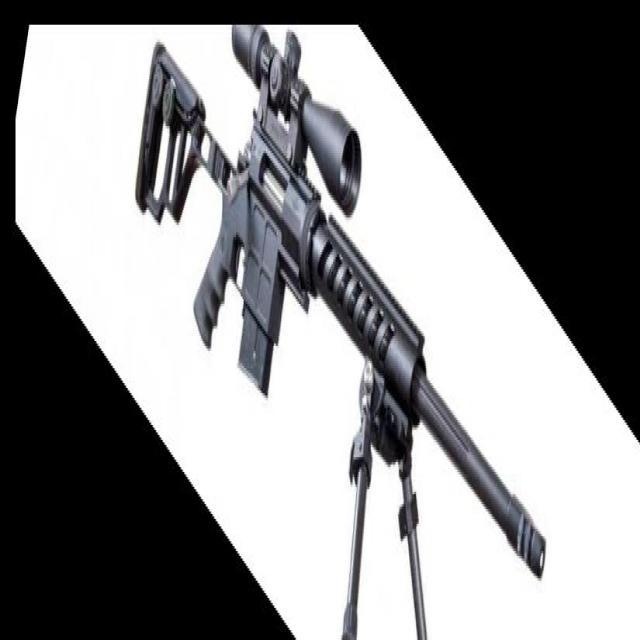weapon: (133, 27, 547, 640)
